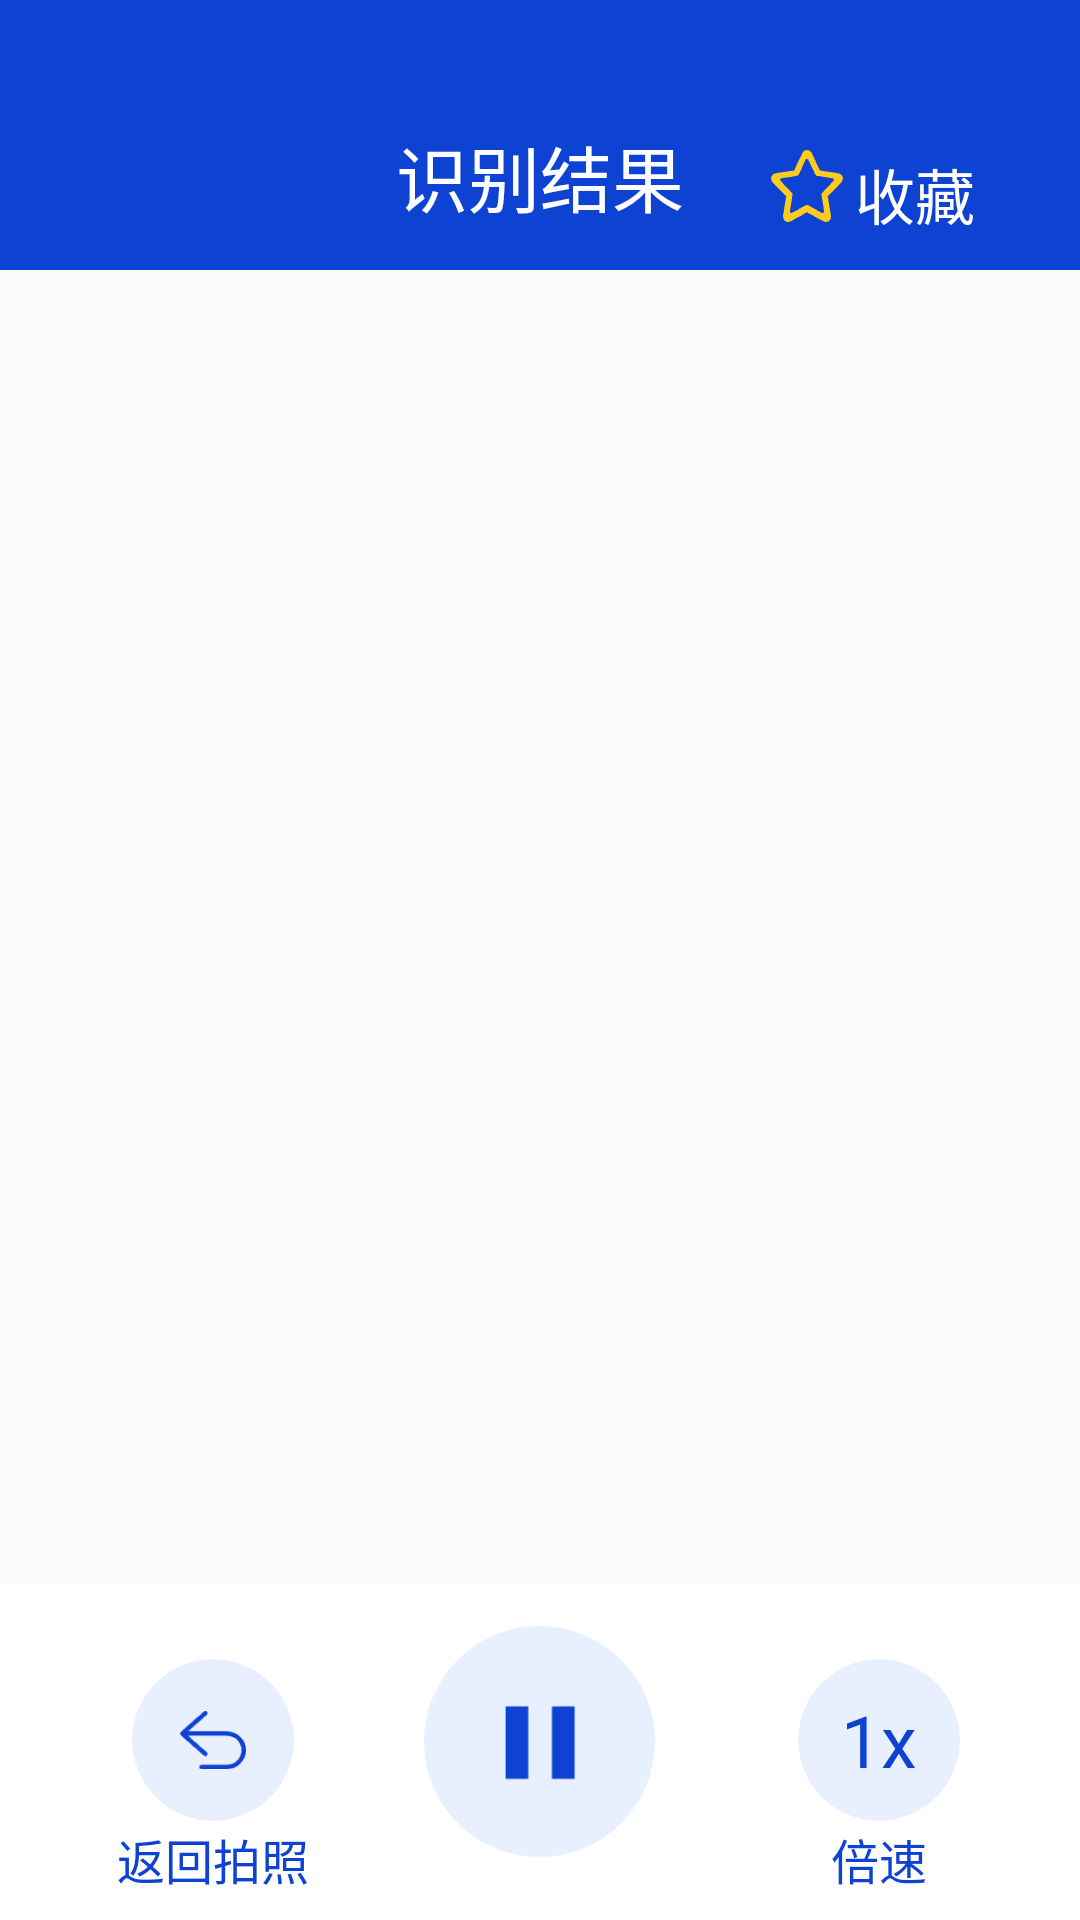

Named icons in this screenshot (1080 × 1920) and their centers, (x=x, y=y):
playing: (x=540, y=1742)
返回按钮，点我返回上一页面: (x=213, y=1740)
